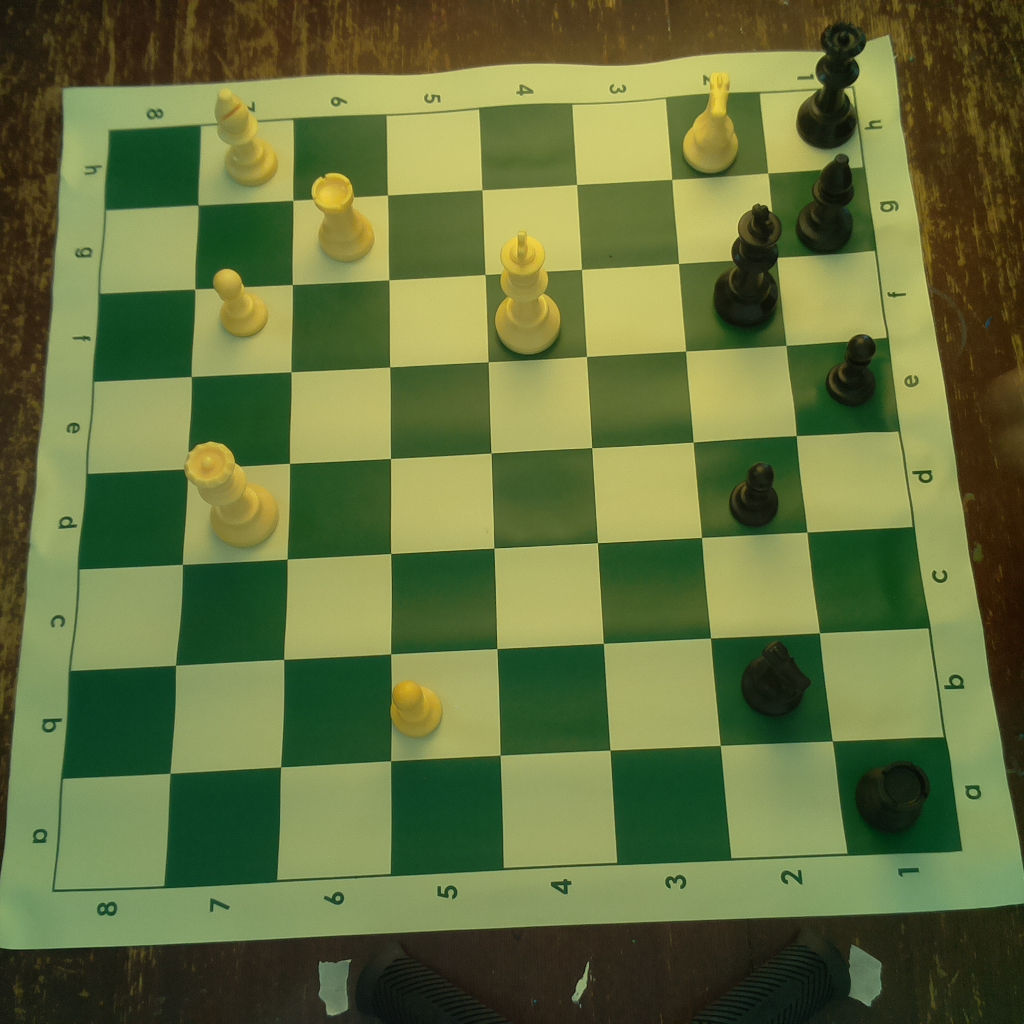black_bishop: (796, 153, 859, 251)
black_king: (714, 202, 780, 330)
black_knight: (734, 634, 818, 721)
black_pawn: (825, 327, 880, 408), (727, 461, 784, 527)
black_queen: (790, 19, 866, 153)
black_rook: (850, 754, 933, 840)
file_a: (51, 736, 966, 893)
file_b: (63, 627, 944, 778)
file_c: (71, 528, 931, 670)
file_d: (77, 432, 915, 569)
file_e: (86, 339, 902, 478)
file_f: (93, 251, 890, 382)
file_g: (98, 167, 876, 293)
file_h: (102, 90, 867, 213)
outline: (53, 86, 963, 890)
rank_1: (760, 87, 960, 857)
rank_2: (666, 92, 847, 860)
rank_3: (571, 97, 736, 865)
rank_4: (480, 100, 618, 870)
rank_5: (386, 109, 505, 875)
rank_6: (275, 118, 393, 875)
rank_7: (166, 119, 294, 887)
rank_8: (53, 125, 203, 888)
white_bishop: (208, 82, 281, 188)
white_king: (490, 225, 567, 356)
white_knight: (680, 67, 744, 180)
white_pawn: (210, 262, 271, 340), (384, 674, 447, 741)
white_queen: (177, 438, 284, 548)
white_rook: (303, 170, 377, 264)
